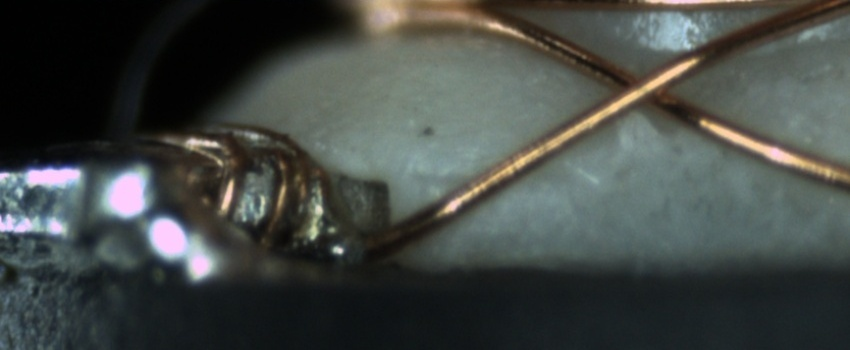CL: (590, 50, 699, 122)
DL: (413, 160, 540, 205)
TE: (150, 113, 351, 251)
